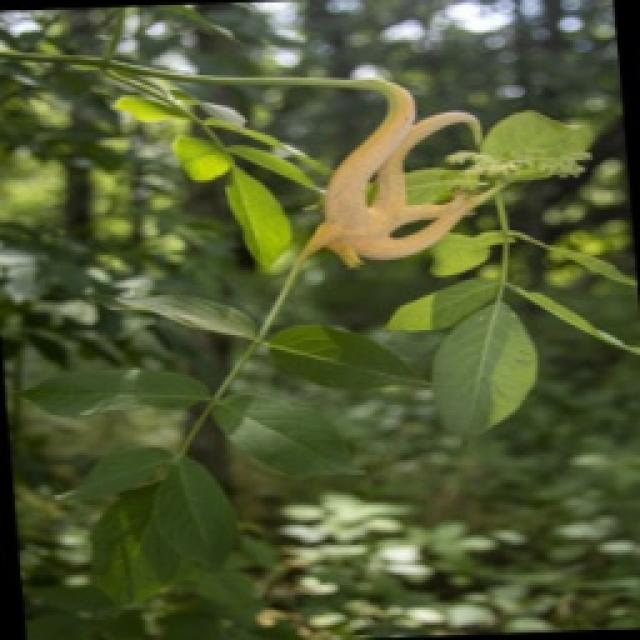Elderberry_rust: (292, 75, 488, 273)
